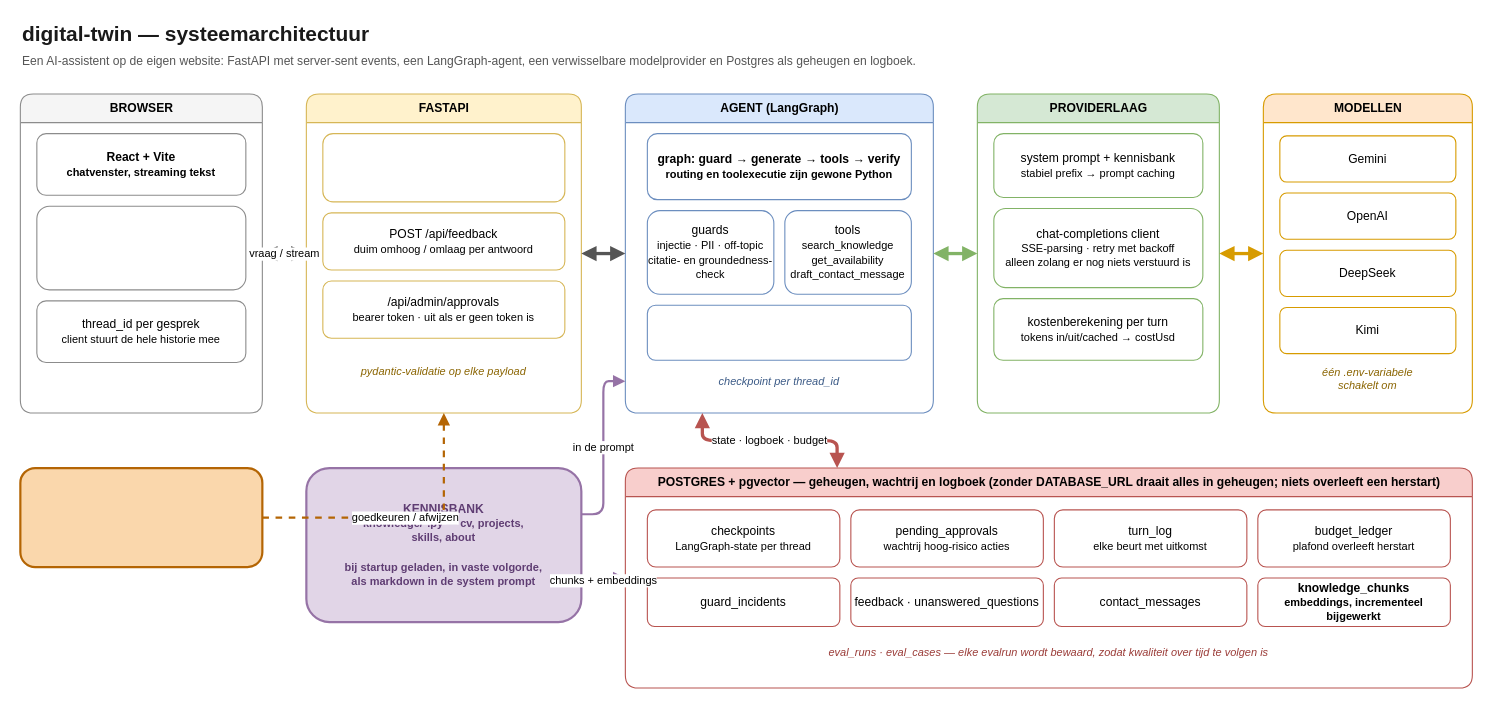
This 1492x707 diagram has some shape labels left out. The centre of each missing label's shape, as x and y in pixels:
"BudgetTracker dagplafond in dollars, fail closed" goes at (x=778, y=332).
"POST /api/chat StreamingResponse (SSE) rate limit 20 per 10 min per IP" goes at (x=443, y=167).
"RUUD (beheer) keurt gepauzeerde acties goed of af, met bearer token" goes at (x=141, y=517).
"SSE-events text · citation · tool meta · trace · approval · done" goes at (x=141, y=247).
